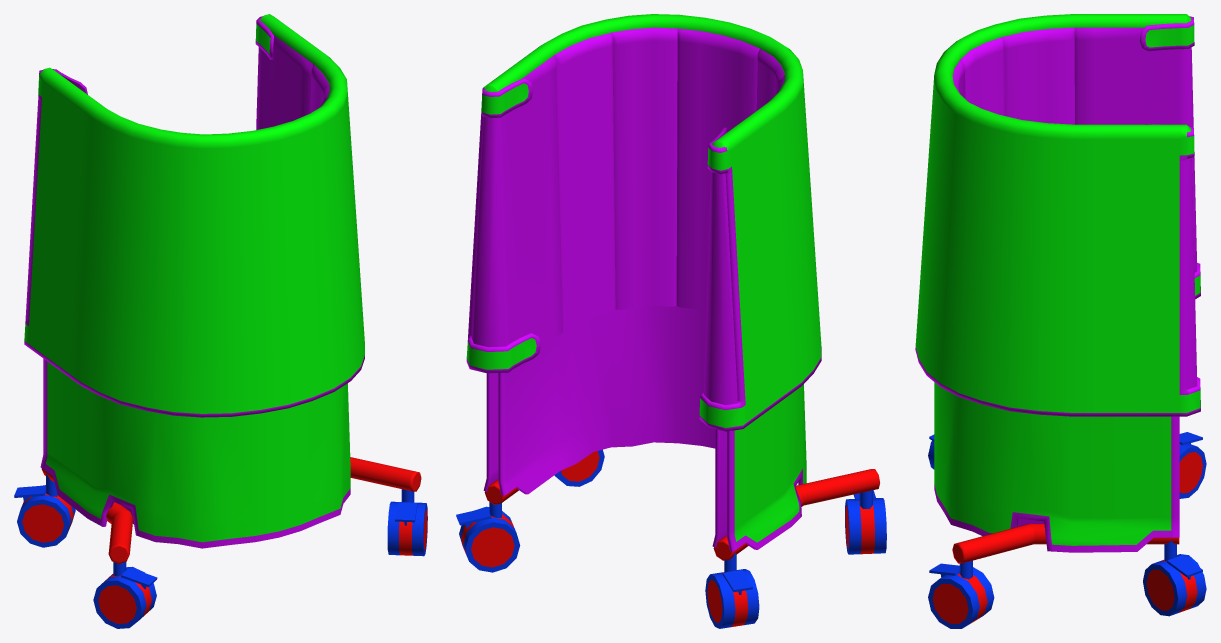
File: Shield_Chariot.FBX
3 views of the same model, side by side, from view 1: azimuth 30°, elevation 25°; view 2: azimuth 150°, elevation 25°; view 3: azimuth 270°, elevation 25° (orthographic). The views are drawn at different scales.
Visible parts, largest first — view 1: Chariot; view 2: Chariot; view 3: Chariot.
Boxes of the visible parts, bbox=[...] form: Chariot: bbox=[14, 14, 427, 628]; Chariot: bbox=[456, 14, 886, 628]; Chariot: bbox=[915, 14, 1206, 628].
Size of the model in its own units: 30.47 by 40.56 by 22.27.
